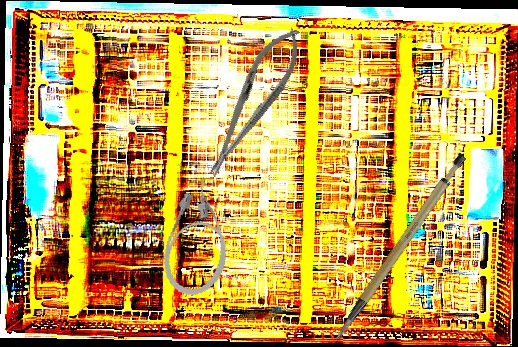Cannula: (156, 172, 243, 303)
Needle Holder: (192, 18, 314, 186)
Scalpel Handle: (306, 150, 490, 343)
